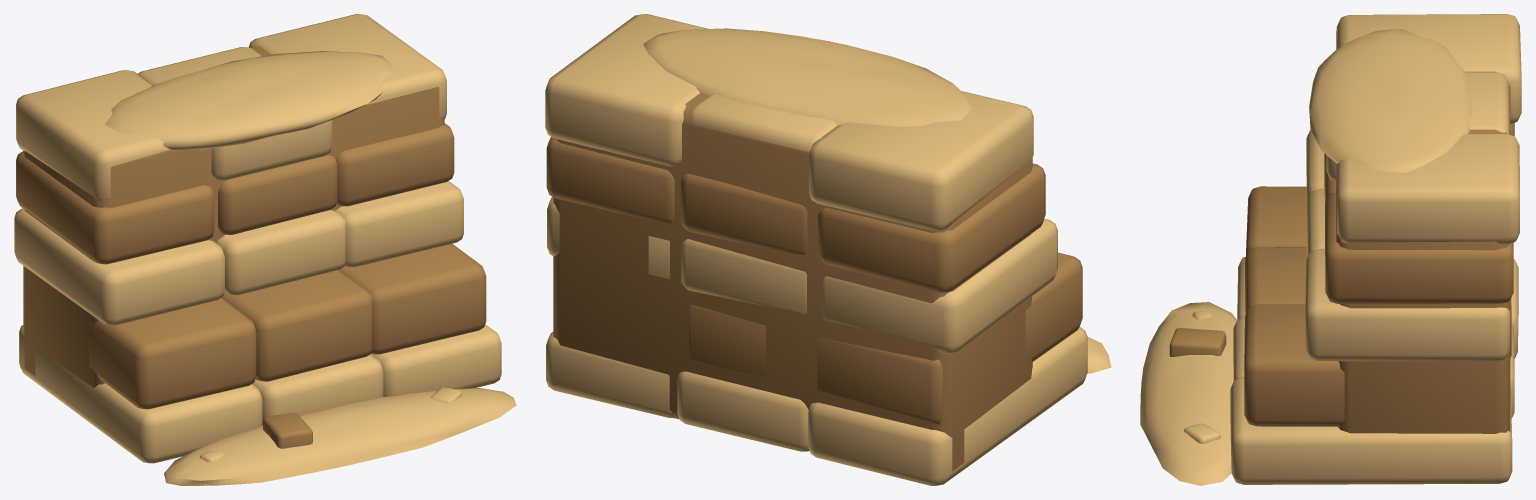
File: SandCliffC.fbx
3 renders of one model, left to right at view 1: azimuth 30°, elevation 25°; view 2: azimuth 150°, elevation 25°; view 3: azimuth 270°, elevation 25°, orthographic. The views are drawn at different scales.
Visible parts, largest first — view 1: SandCliffC; view 2: SandCliffC; view 3: SandCliffC.
Boxes of the visible parts, x1,y1,x2,y2 form: SandCliffC: [14, 14, 516, 485]; SandCliffC: [545, 14, 1111, 485]; SandCliffC: [1140, 14, 1521, 485].
Bounding box in the file's own units: 7.93 × 6.04 × 6.8.
1 material, 1 textured.
